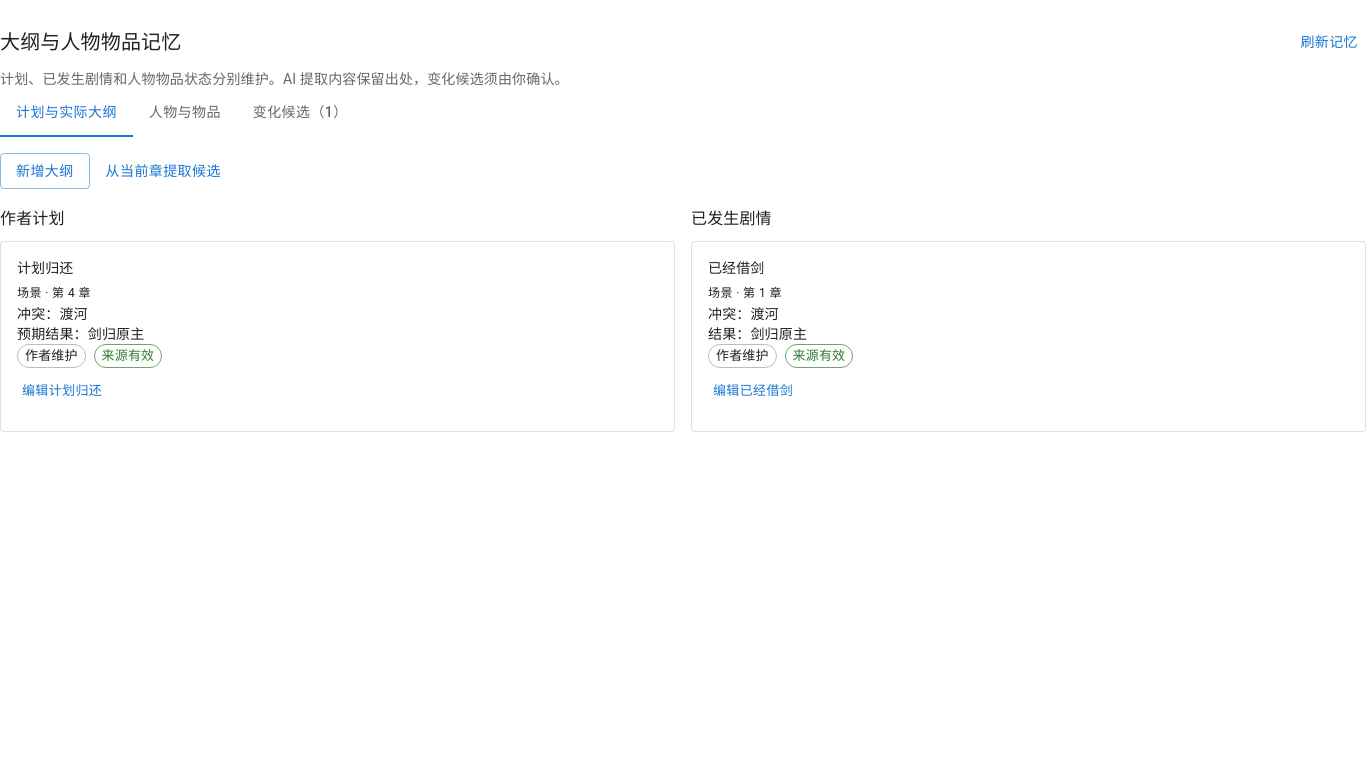
Test: 结构化记忆工作区 › 原文已删除时保留候选，来源查看失败不触发确认
The width and height of the screenshot is (1366, 768).
Click the tab "变化候选（1）" at [300, 112], box top-left (237, 88), bottom-right (364, 136)
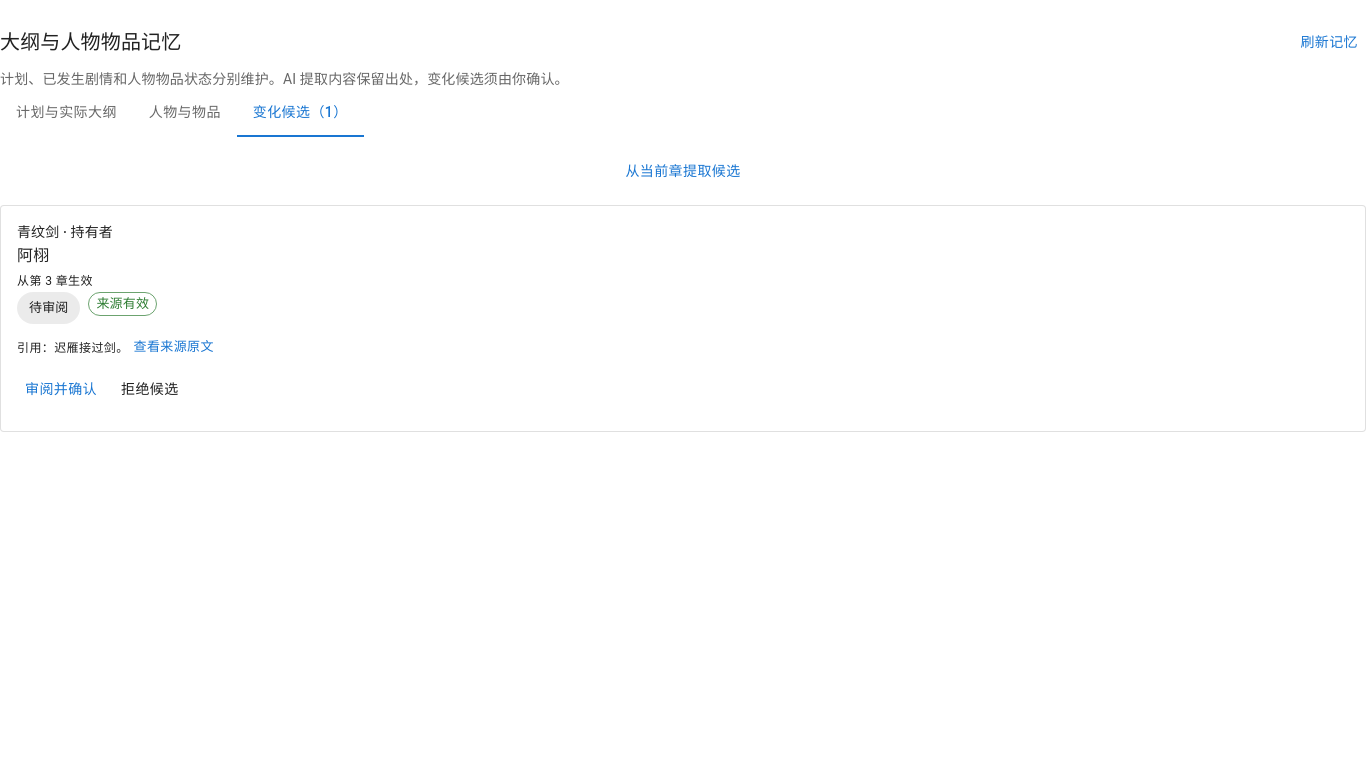
Click the button "查看来源原文" at [174, 347], box top-left (129, 332), bottom-right (219, 363)
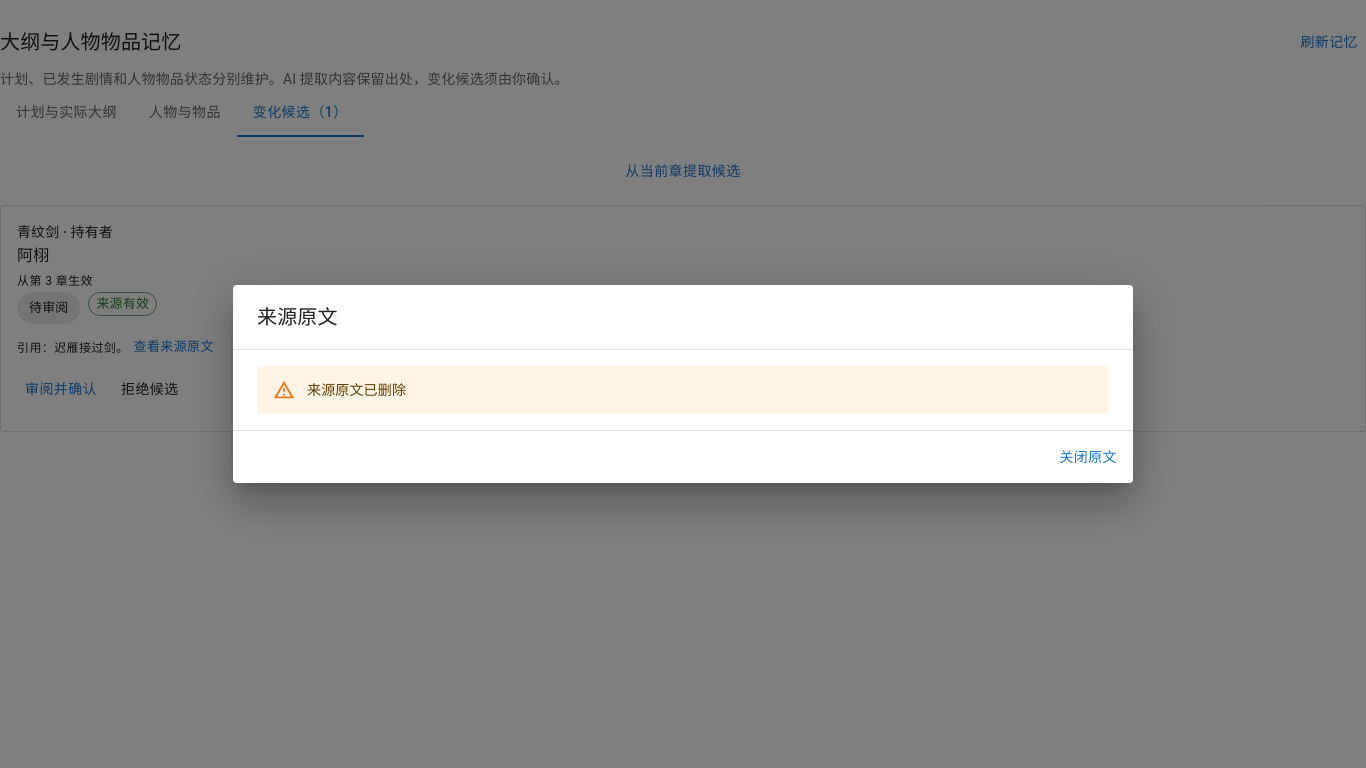
Expected: the text "阿栩" is shown, top-left (17, 246), bottom-right (49, 265)
Expected: the text "来源原文已删除" is shown, top-left (307, 382), bottom-right (406, 398)
